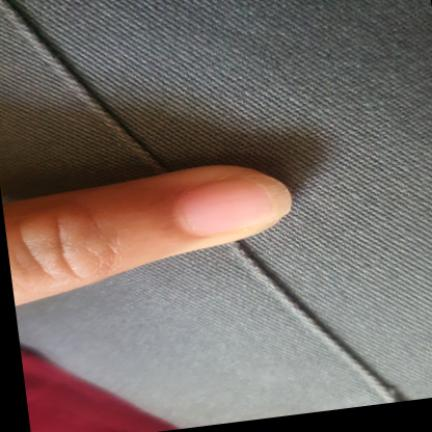Nail: (176, 174, 292, 235)
